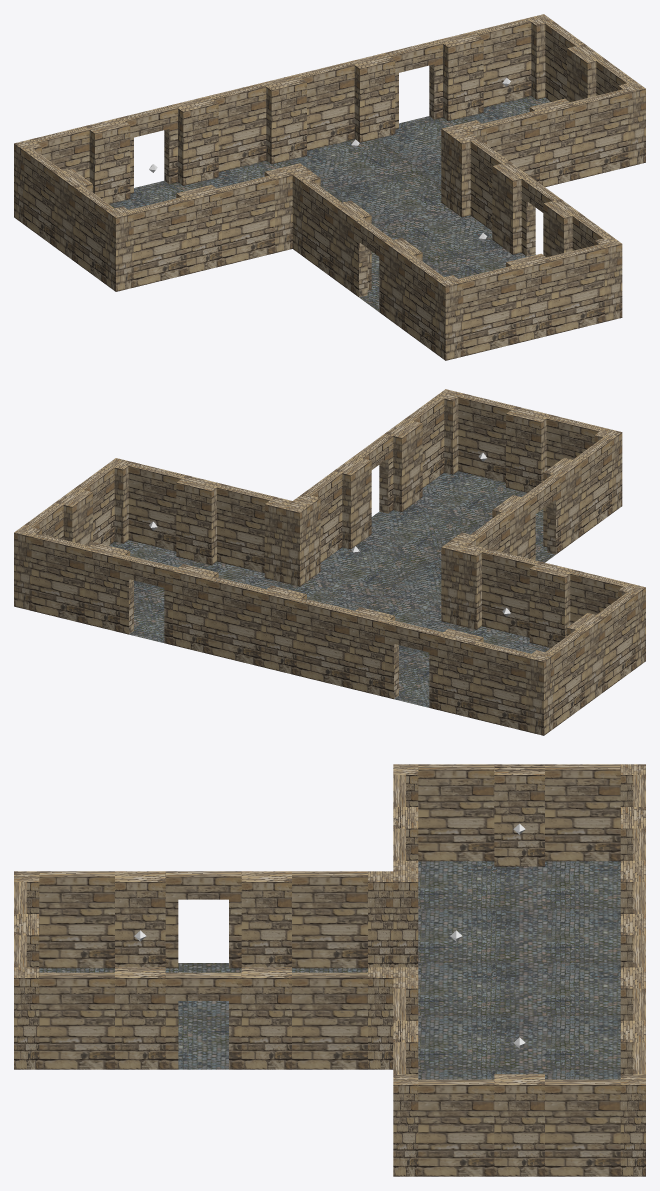
File: 1_4doorTRoom.fbx
3 views of the same model, one above another, from view 1: azimuth 30°, elevation 25°; view 2: azimuth 150°, elevation 25°; view 3: azimuth 270°, elevation 25° (orthographic). The views are drawn at different scales.
Parts seen in each view (by area): view 1: Cube_2, Plane_1; view 2: Cube_2, Plane_1; view 3: Cube_2, Plane_1.
Part boxes in pixels (bbox=[...]): Cube_2: bbox=[14, 14, 645, 360]; Plane_1: bbox=[109, 96, 550, 311]; Cube_2: bbox=[14, 389, 645, 735]; Plane_1: bbox=[109, 471, 555, 707]; Cube_2: bbox=[14, 764, 645, 1176]; Plane_1: bbox=[39, 861, 620, 1079].
Size of the model in its own units: 60 by 8 by 50.
Materials: 3 (3 with a texture image).
